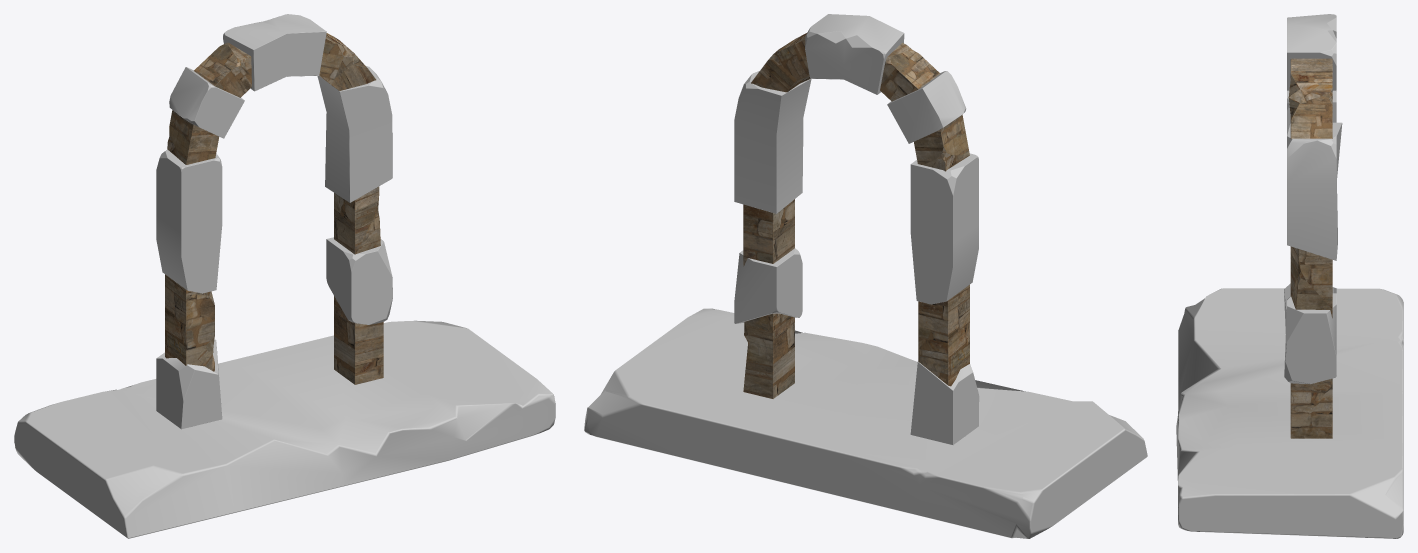
Rendered from Portal.fbx.
The picture shows the model from 3 angles, left to right: view 1: azimuth 30°, elevation 25°; view 2: azimuth 150°, elevation 25°; view 3: azimuth 270°, elevation 25°; orthographic projection. The views are drawn at different scales.
Visible parts, largest first — view 1: Plane.002, Plane.001, Plane; view 2: Plane.002, Plane.001, Plane; view 3: Plane.002, Plane.001, Plane.
Part boxes in pixels (x1,y1,x2,y2): Plane.002: (14, 320, 555, 538); Plane.001: (156, 14, 392, 429); Plane: (165, 33, 383, 384); Plane.002: (584, 308, 1147, 538); Plane.001: (734, 14, 979, 444); Plane: (743, 33, 969, 398); Plane.002: (1176, 288, 1403, 538); Plane.001: (1284, 14, 1342, 384); Plane: (1288, 58, 1332, 438).
Size of the model in its own units: 263 by 240 by 121.
